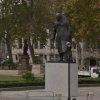Statue: (47, 5, 91, 70)
